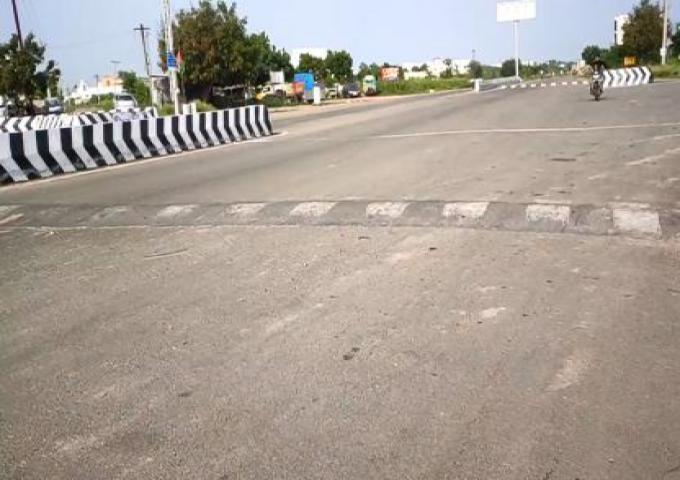speedbreaker: (0, 187, 679, 249)
